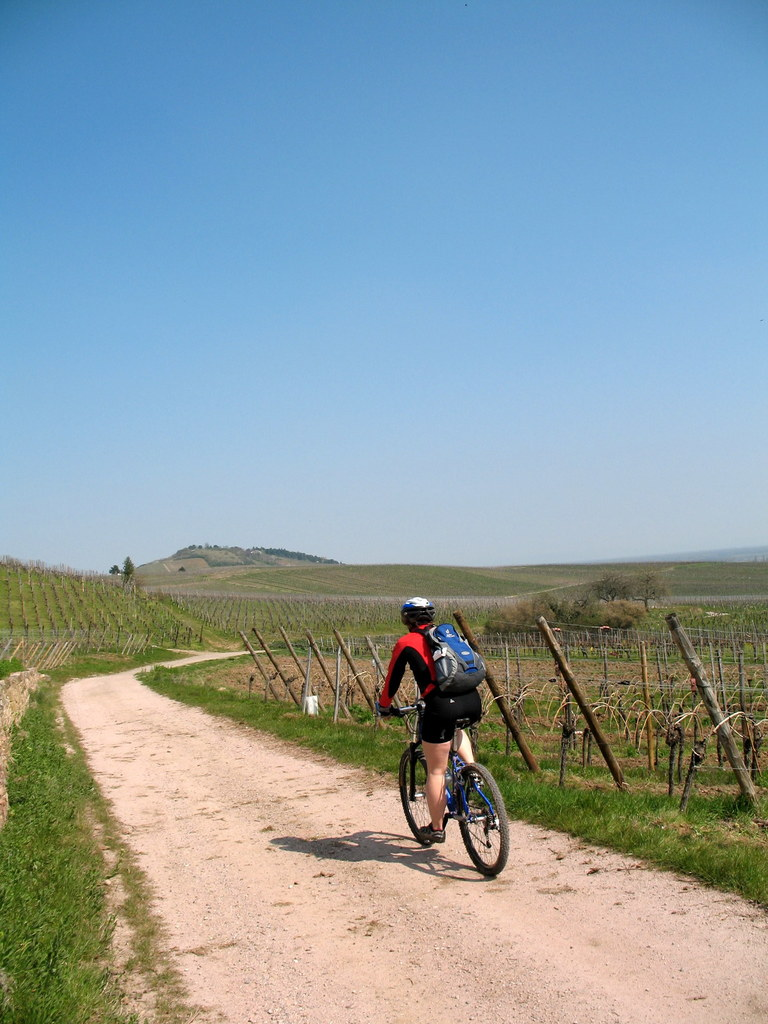Bike_away: (381, 700, 521, 878)
